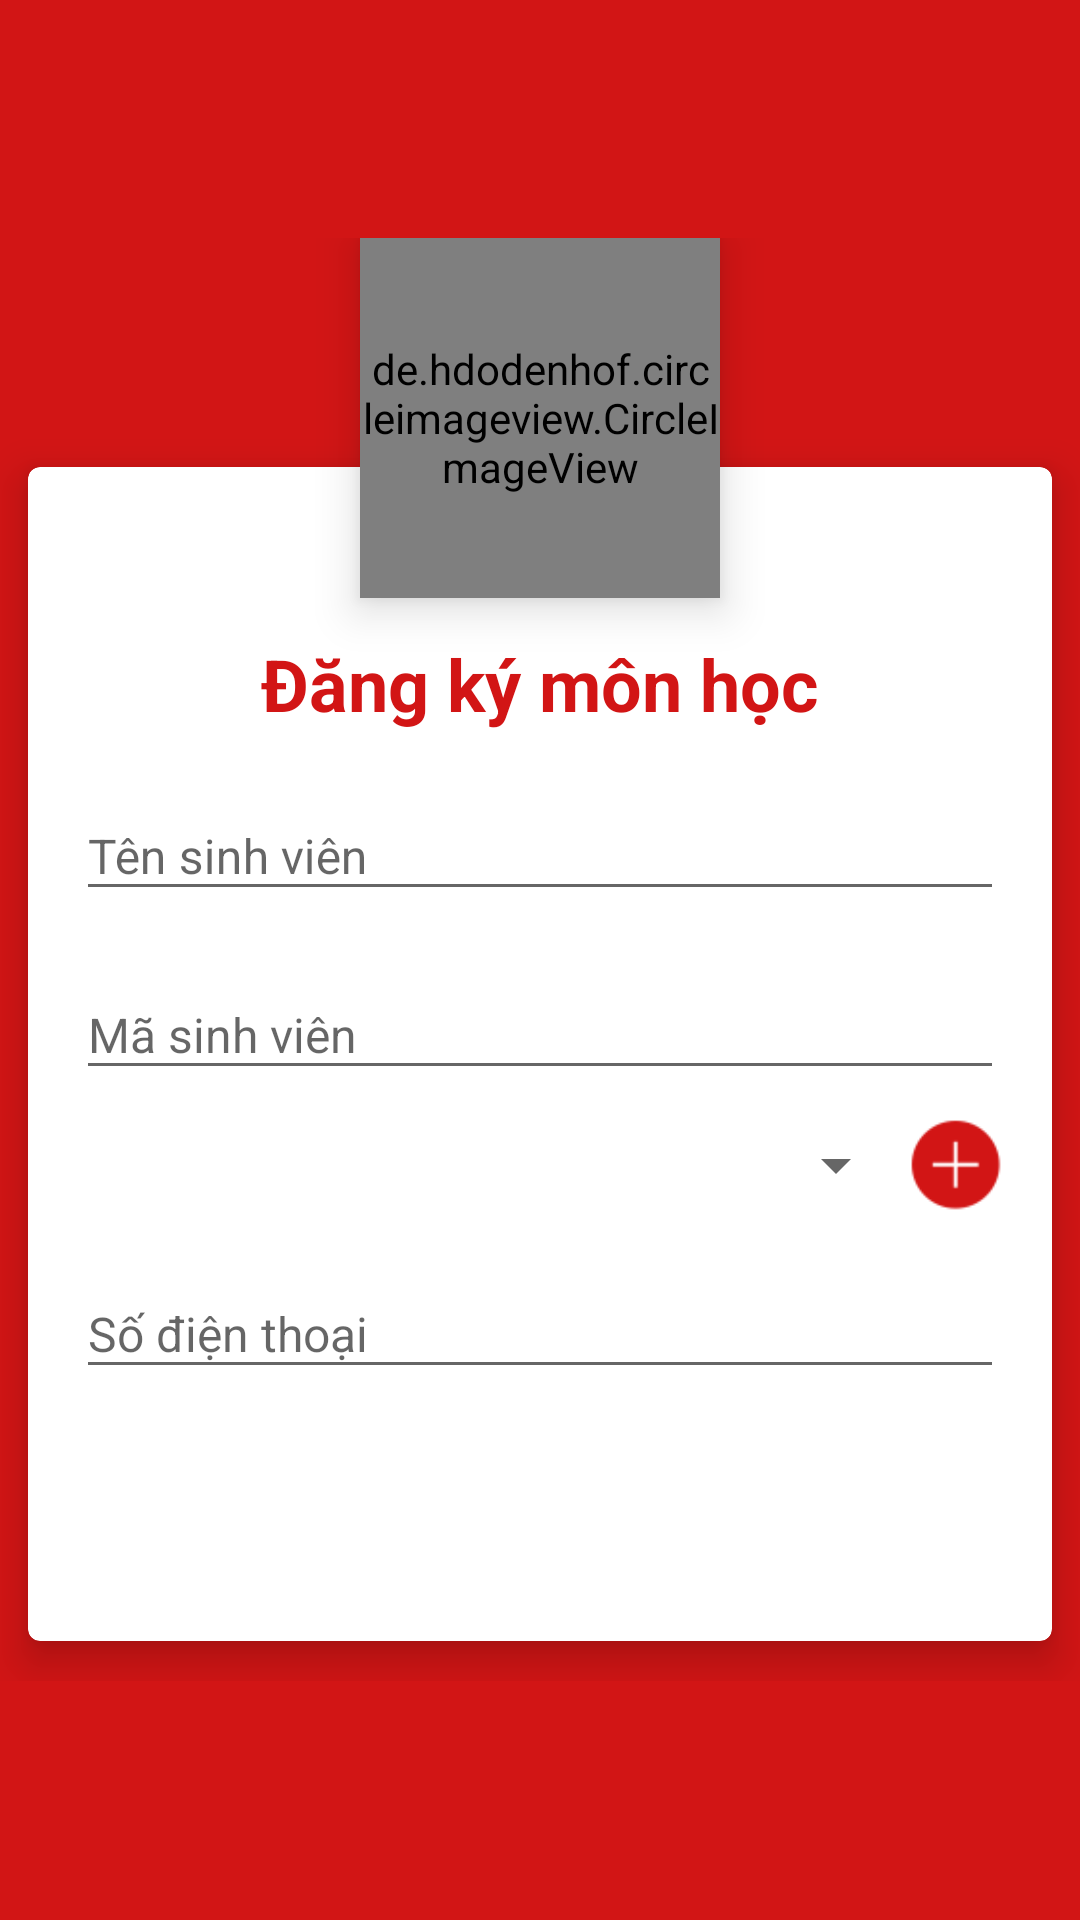

Locate icon controls on the screen. Image size 1080x1920, boxes as box=[x1, y1, x2, y2].
plus: box=[911, 1120, 1001, 1210]
